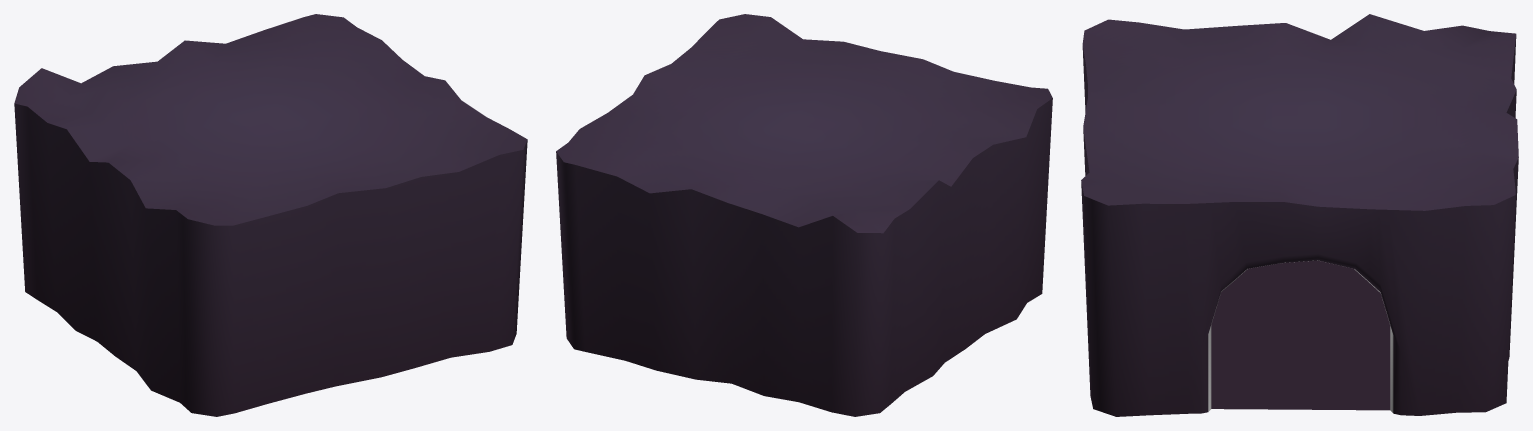
The model's file is Entrance.fbx.
3 renders of one model, left to right at view 1: azimuth 30°, elevation 25°; view 2: azimuth 150°, elevation 25°; view 3: azimuth 270°, elevation 25°, orthographic. The views are drawn at different scales.
Parts seen in each view (by area): view 1: Modular_Ground; view 2: Modular_Ground; view 3: Modular_Ground.
Boxes of the visible parts, x1=… form: Modular_Ground: x1=14, y1=14, x2=527, y2=416; Modular_Ground: x1=556, y1=14, x2=1052, y2=416; Modular_Ground: x1=1081, y1=14, x2=1518, y2=416.
Size of the model in its own units: 790 by 445 by 783.
